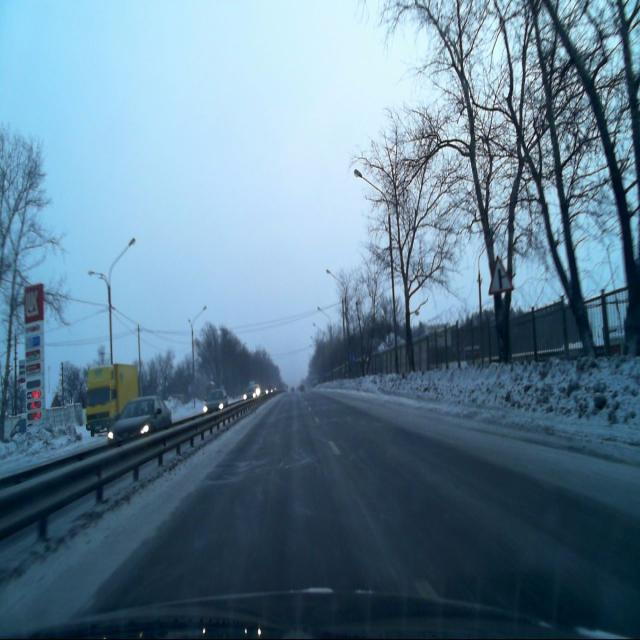road sign: (488, 253, 512, 294)
